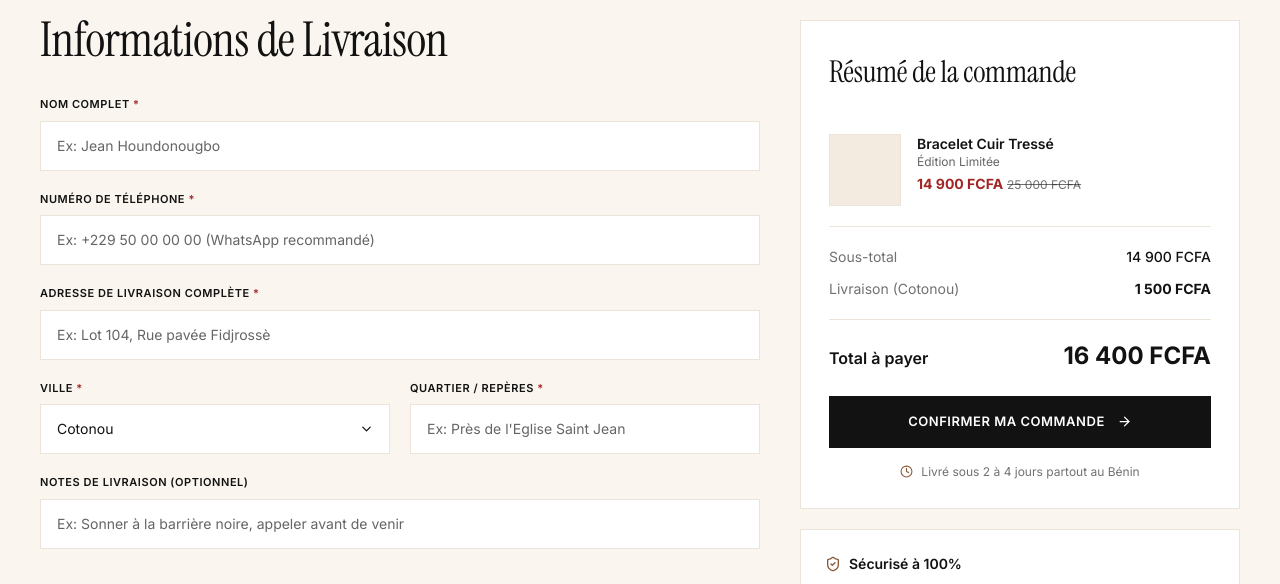
paiement › refuse un formulaire incomplet et signale les erreurs
This screenshot has width=1280, height=584.
Click the button "Confirmer ma commande" at (1020,422), box [829, 396, 1211, 448]
(page scrolled)
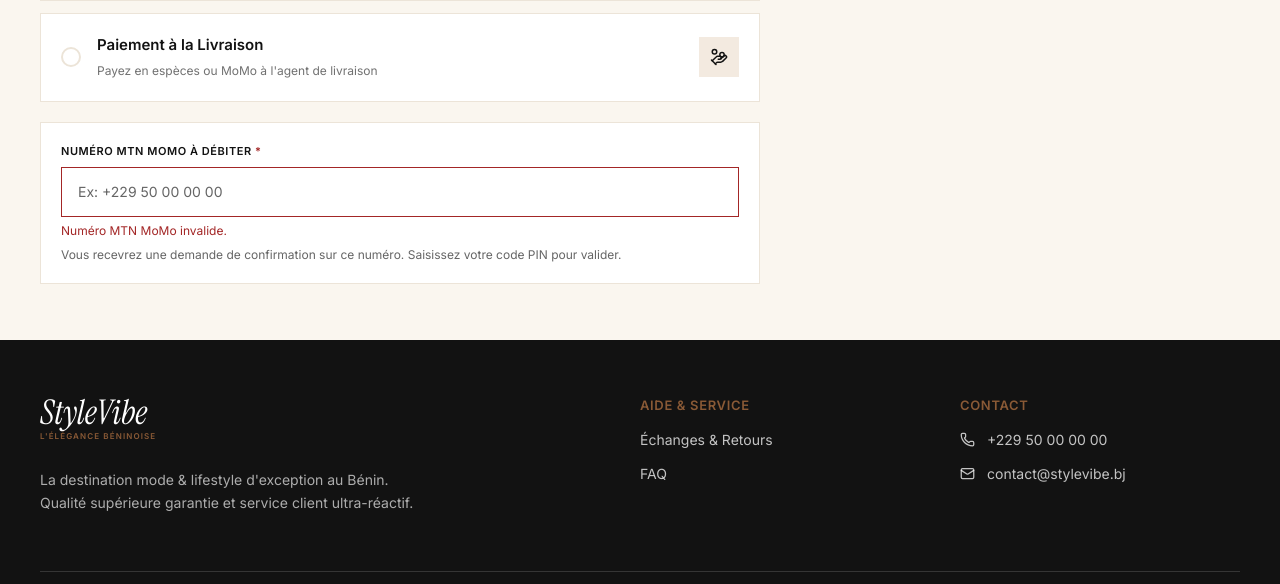
expect the text "Numéro MTN MoMo invalide." is shown: met, box [61, 223, 227, 238]
